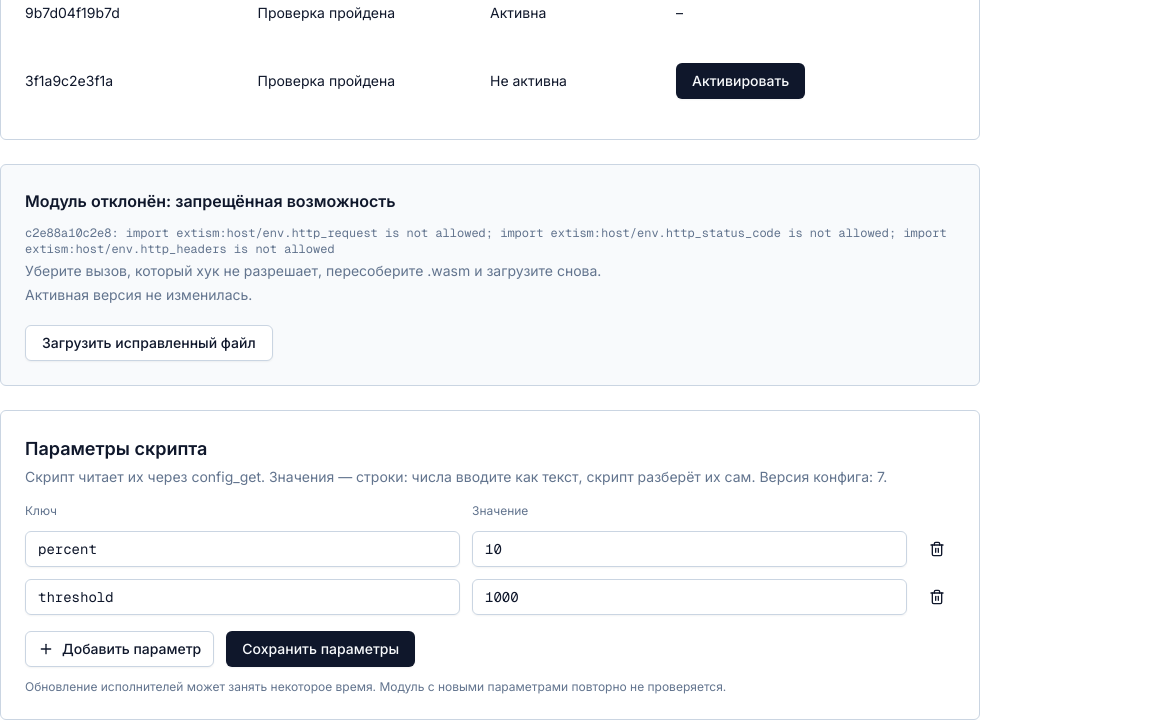
Test case: TenantHookPage › saves only the config and shows the new config version
(page scrolled)
Expected: the text "Версия конфига: 7" is shown, top-left (755, 468), bottom-right (887, 485)
Replace the text in the field showing "10" with "15" at x=690, y=549, box top-left (472, 531), bottom-right (907, 567)
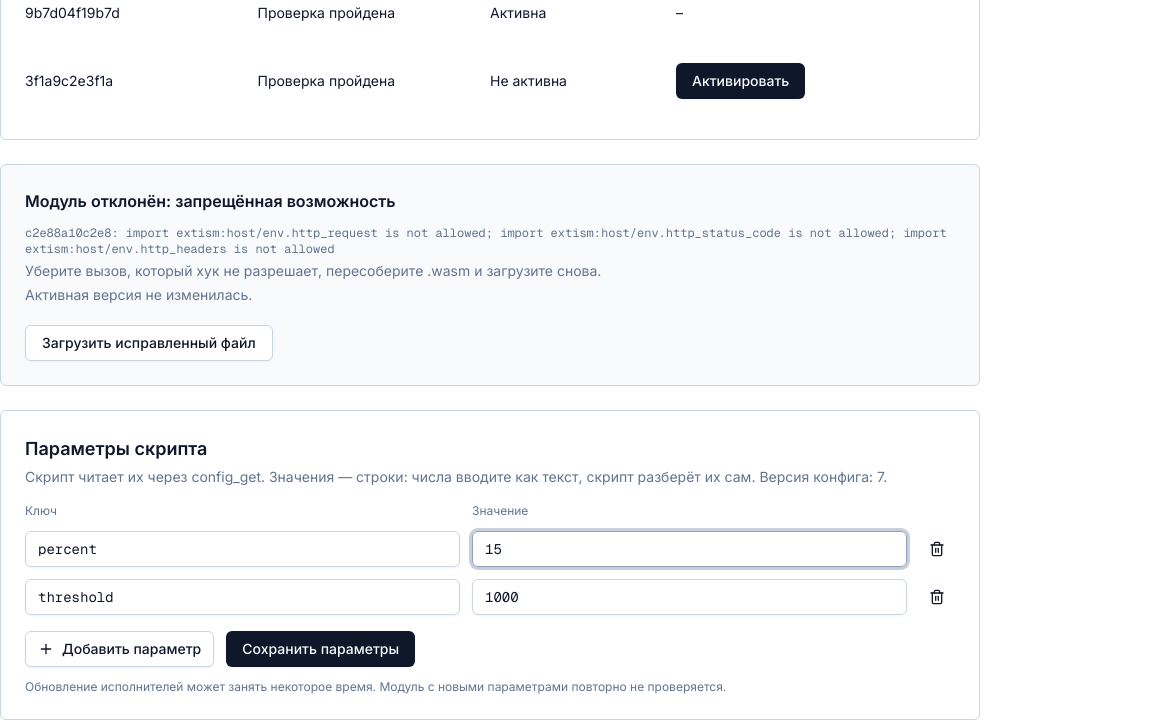
Click the button "Добавить параметр" at x=120, y=649, box top-left (25, 631), bottom-right (214, 667)
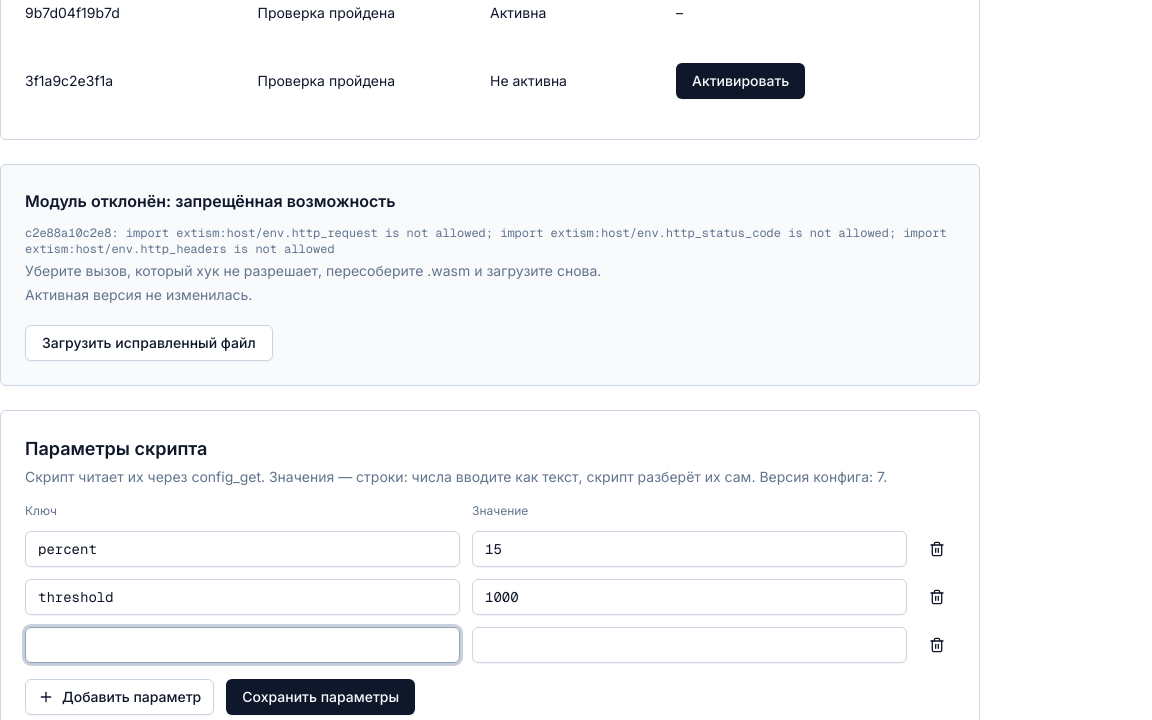
Type "label" into the field named "Ключ 3" at x=242, y=645, box top-left (25, 627), bottom-right (460, 663)
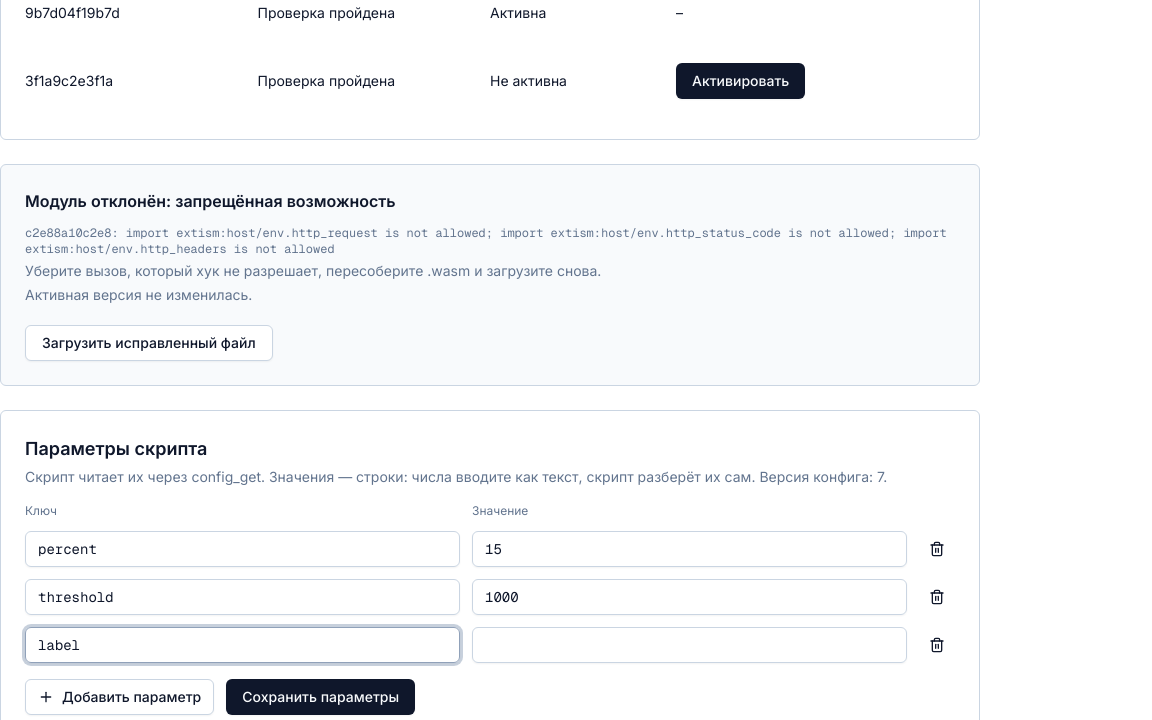
Type "Скидка постоянным" into the field named "Значение 3" at x=690, y=645, box top-left (472, 627), bottom-right (907, 663)
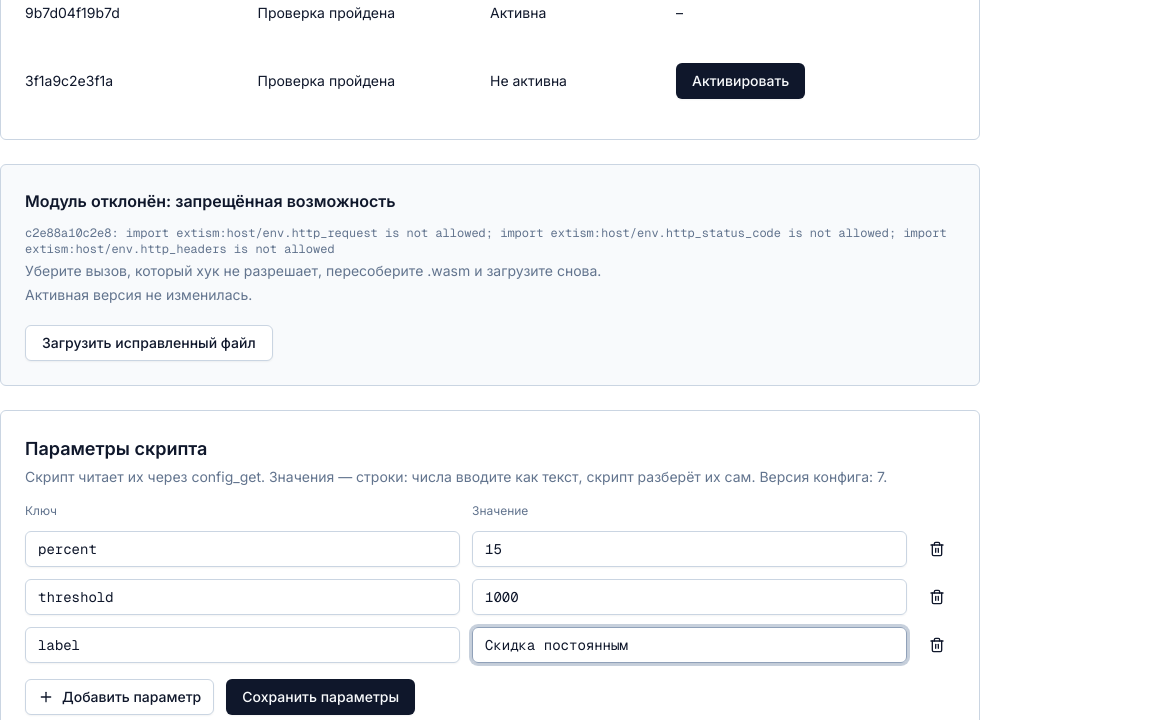
Click the button "Сохранить параметры" at x=321, y=697, box top-left (226, 679), bottom-right (415, 715)
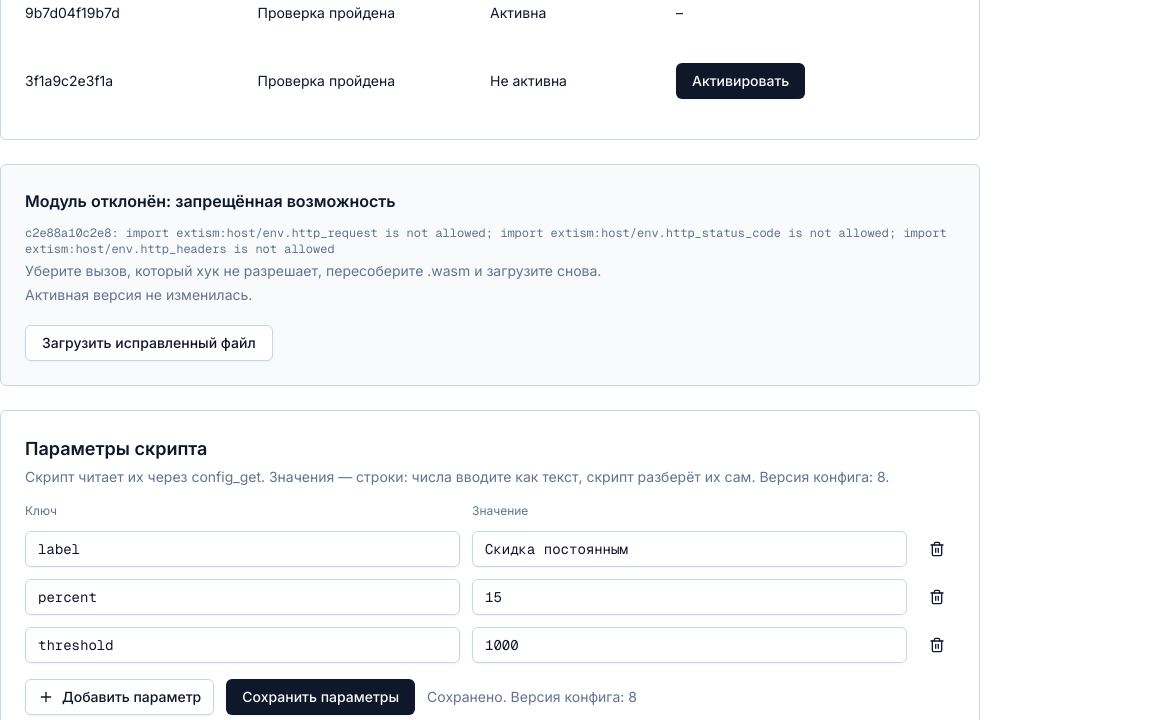
Expected: the text "Сохранено. Версия конфига: 8" is shown, top-left (427, 687), bottom-right (637, 707)
